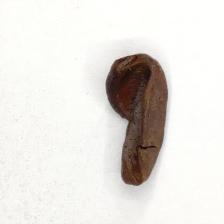NG: (108, 56, 161, 184)
